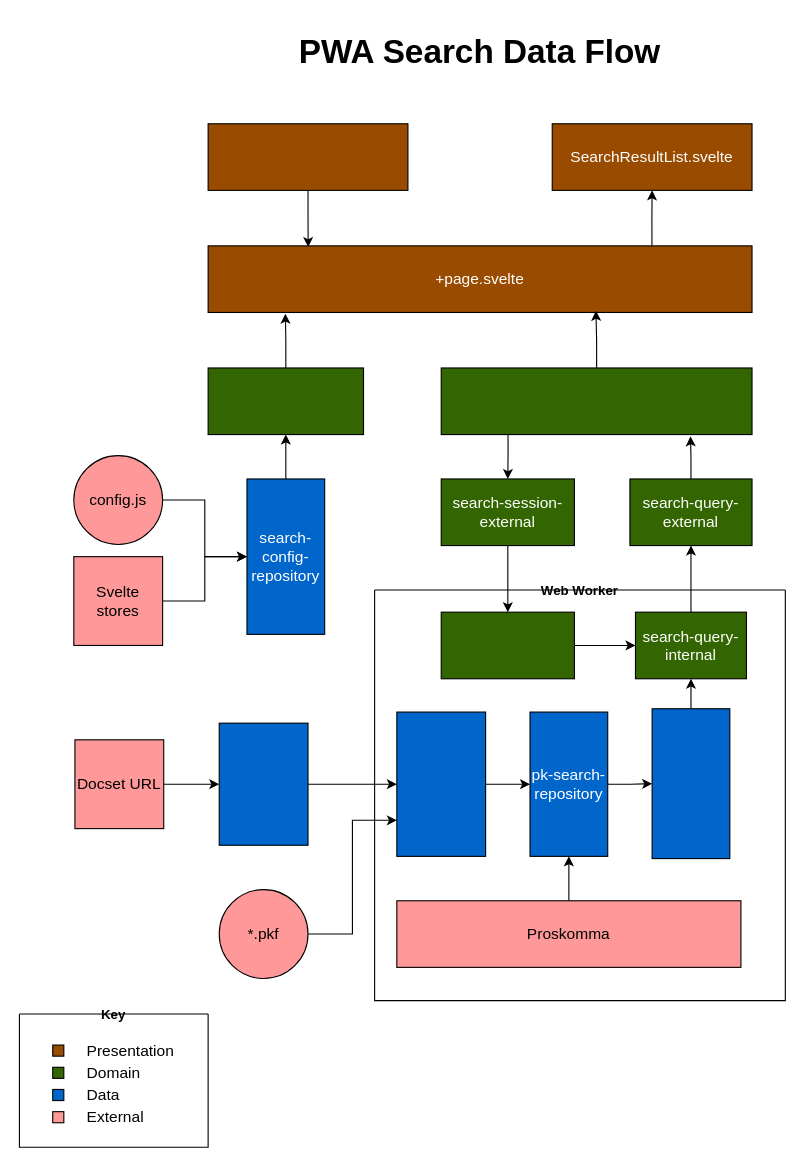
This 805x1167 diagram has some shape labels left out. Here are the shapes that lost their labels. From the top down, the centre of each, then its label:
At (x=307, y=156): "SearchForm.svelte".
At (x=285, y=401): "configure-search".
At (x=596, y=401): "search-session".
At (x=507, y=645): "search-session-internal".
At (x=263, y=783): "worker-request-repository".
At (x=441, y=783): "pk-worker-search-repository".
At (x=690, y=783): "scripture-repository".
